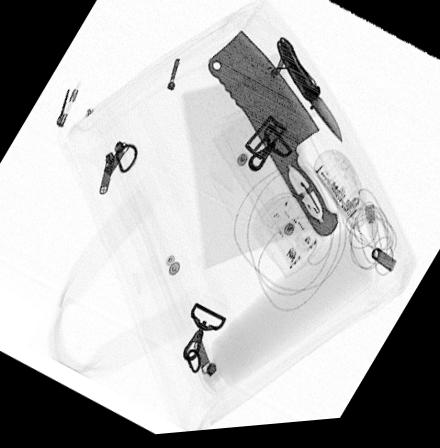Knife: (208, 34, 338, 241), (276, 40, 342, 148)
